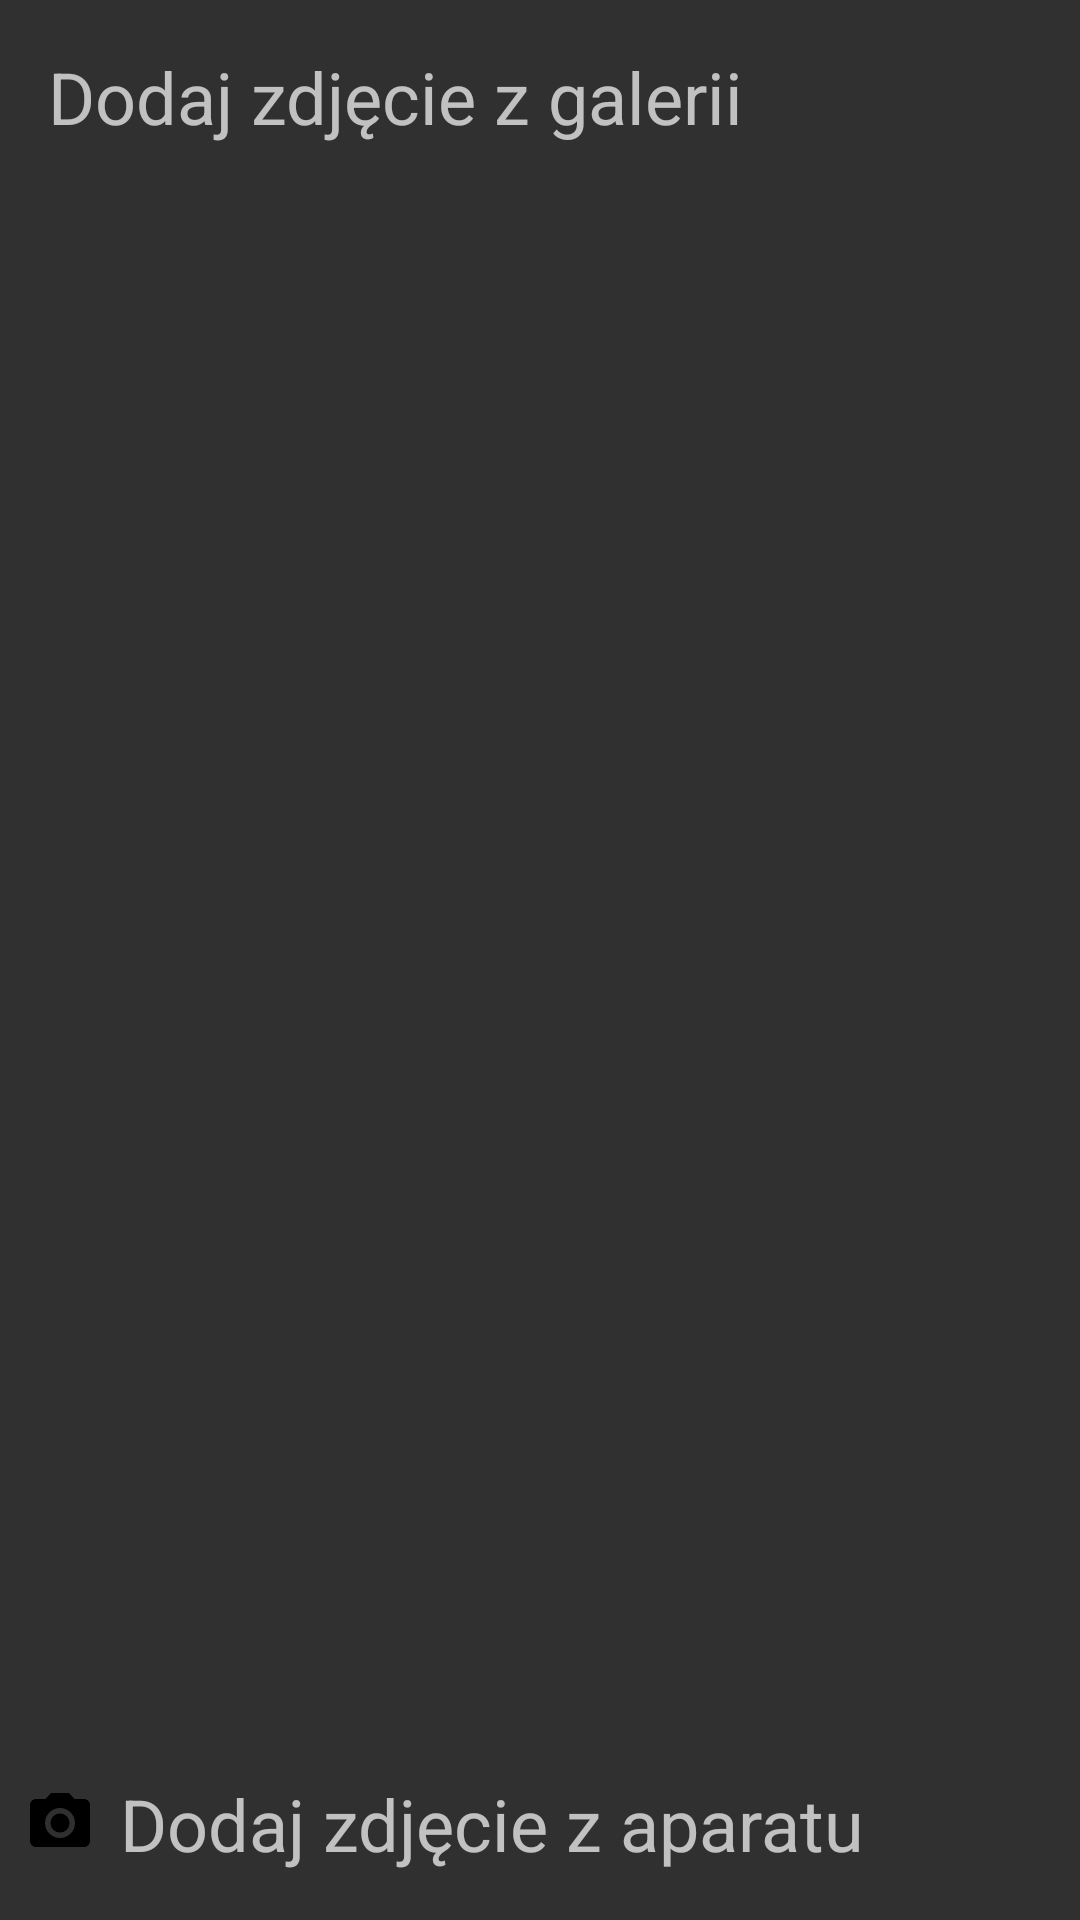

Icon bounding boxes for this 1080*1920 phone screenshot, format (x1, y1, x2, y2):
camera: (30, 1793, 90, 1847)
